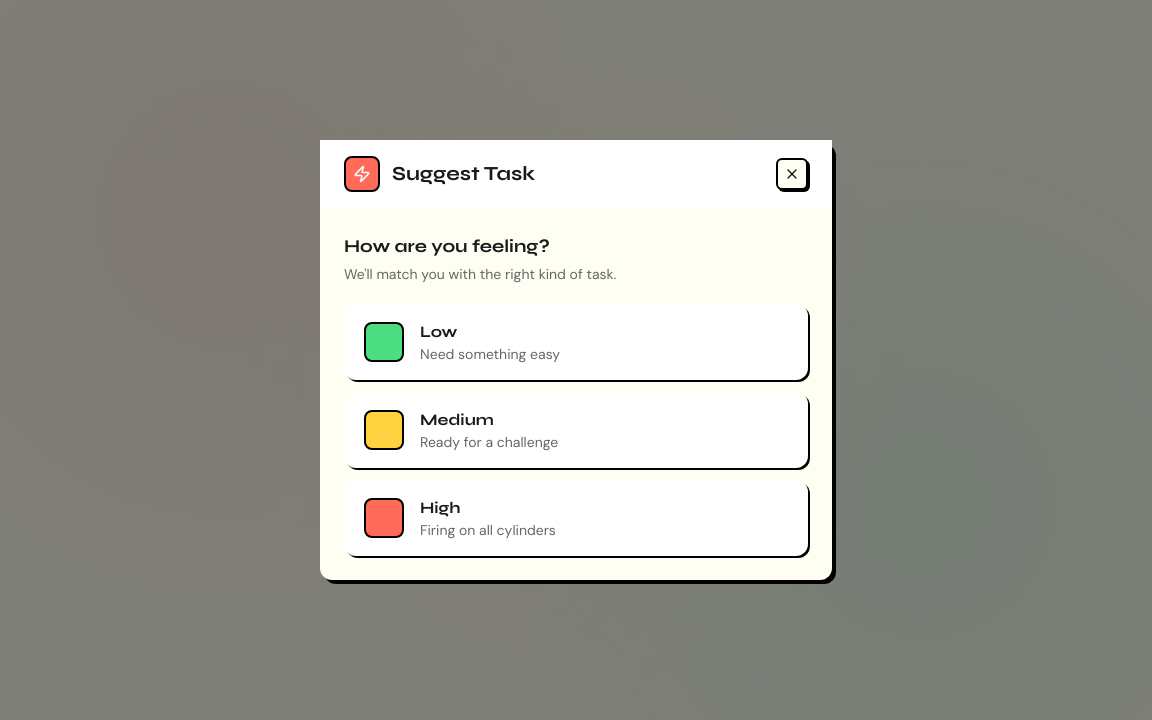
Test: TaskSuggestionModal › back button returns to energy step from time step
Step 1. Click the text "Low" → (439, 332), box [420, 322, 457, 341]
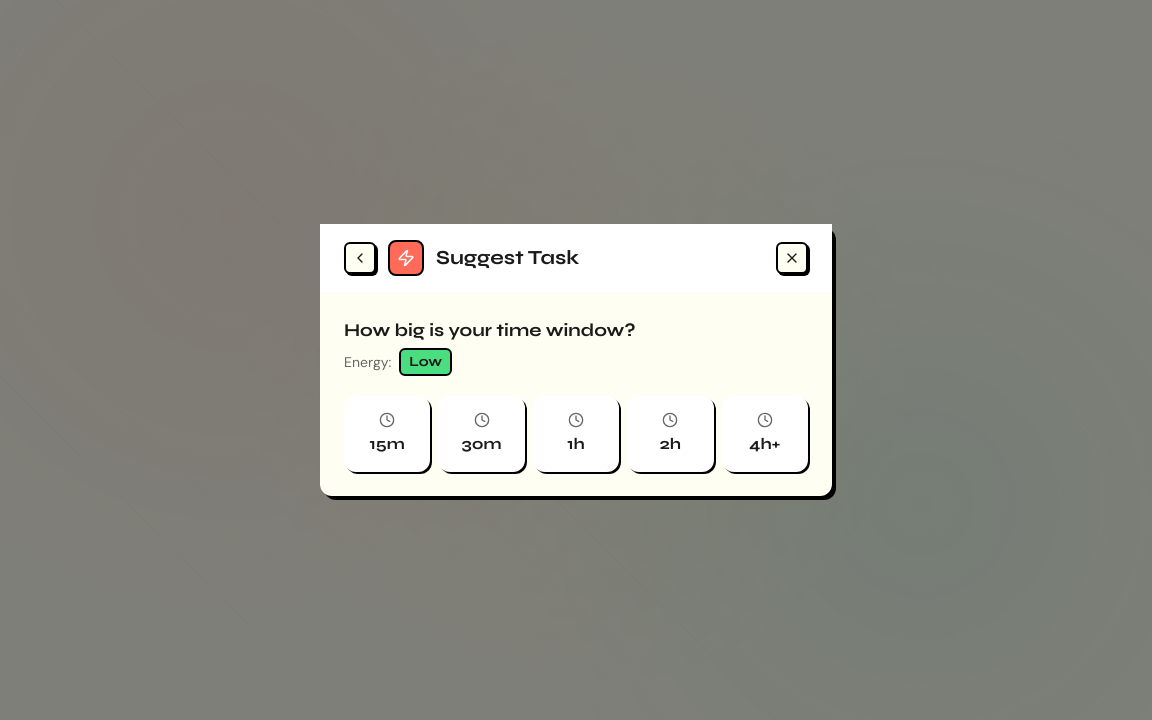
Expected: the text "How big is your time window?" is shown, [344, 319, 636, 341]
Step 2. Click the button named "Back" → (360, 258), box [344, 242, 376, 274]
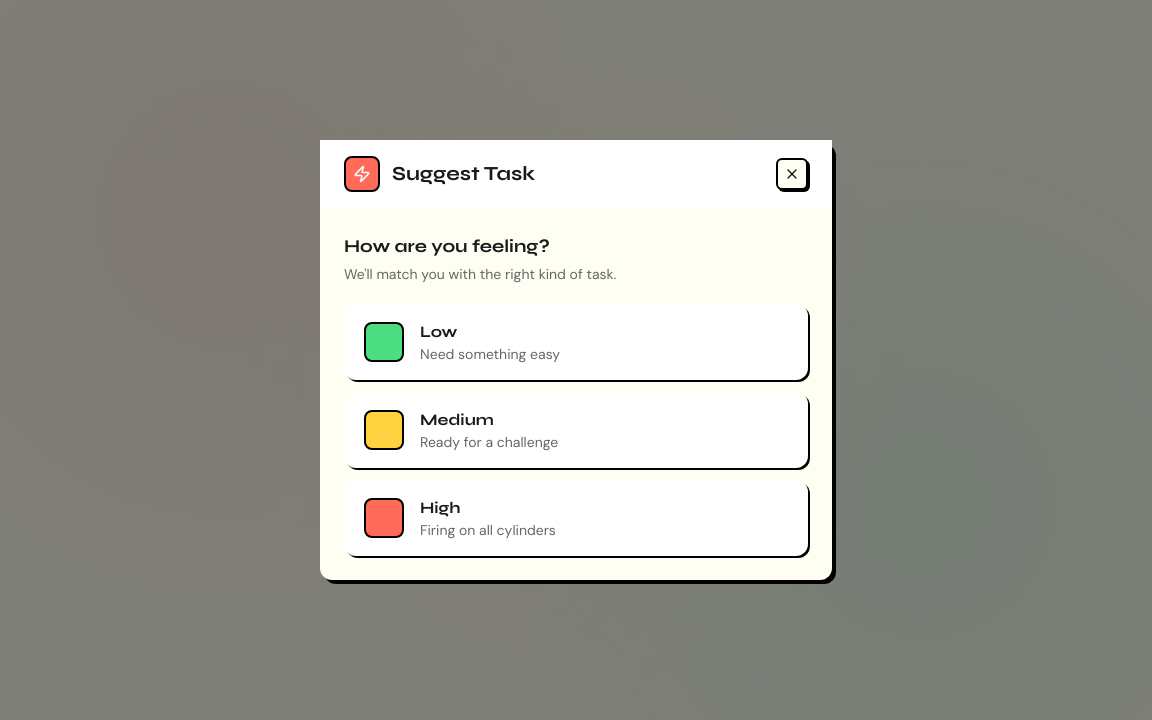
Expected: the text "How are you feeling?" is shown, [344, 235, 550, 257]
